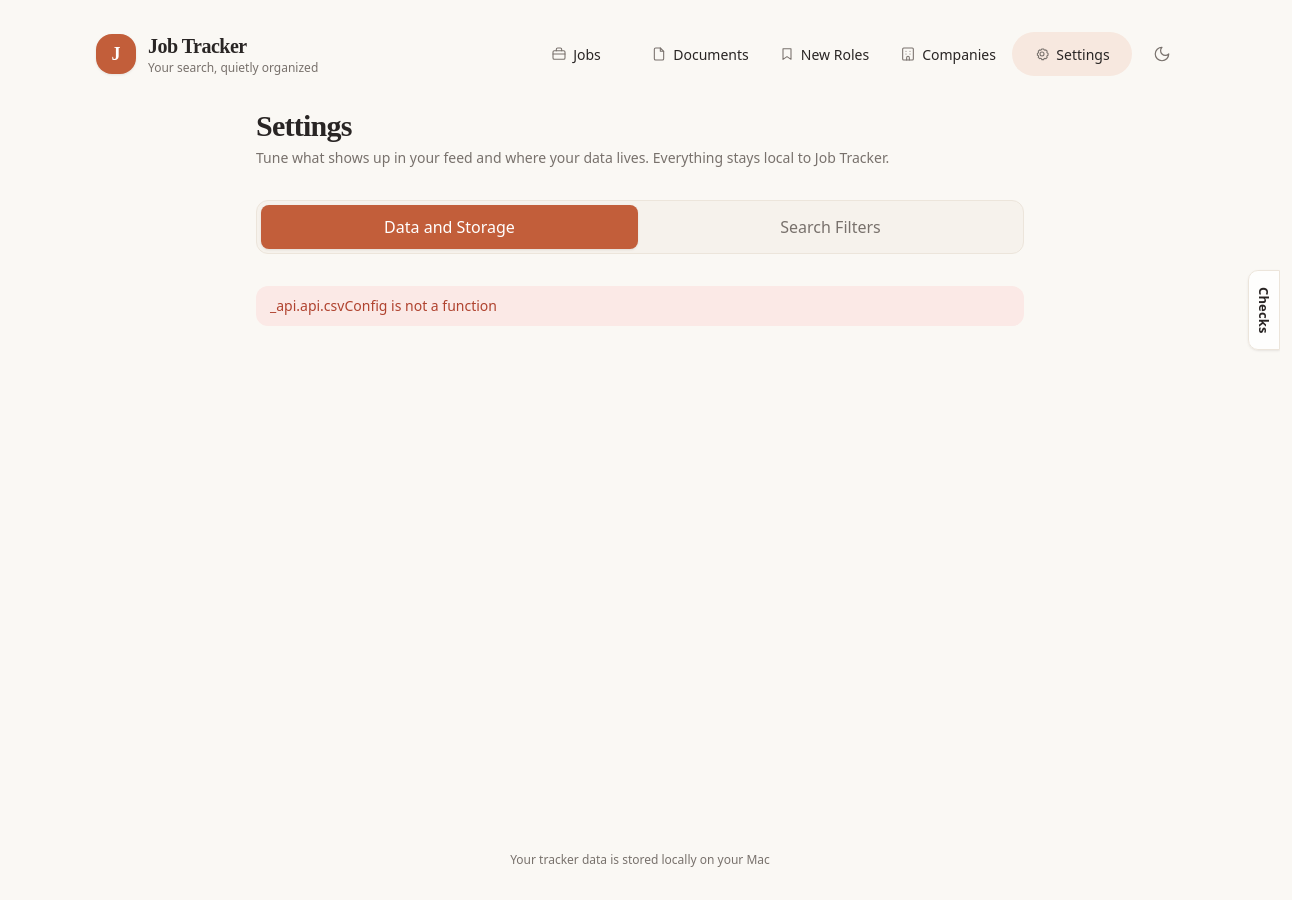
top navigation while a posting run is displayed › returns to Jobs through the app title without discarding the run
The image size is (1292, 900).
Click the button "Checks" at (1264, 310), box [1248,270,1280,350]
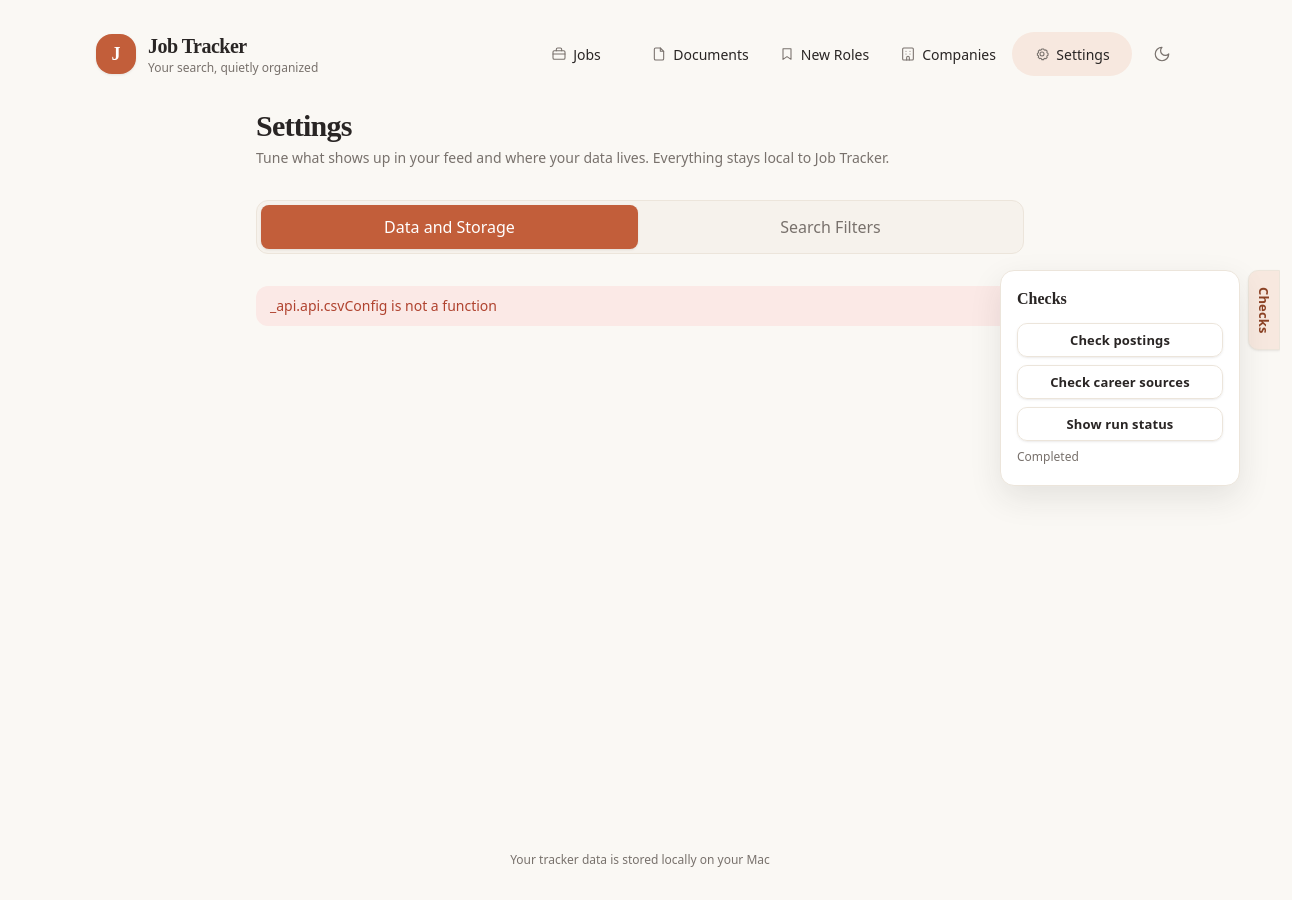
Click the button "Show run status" at (1120, 424), box [1017,407,1223,441]
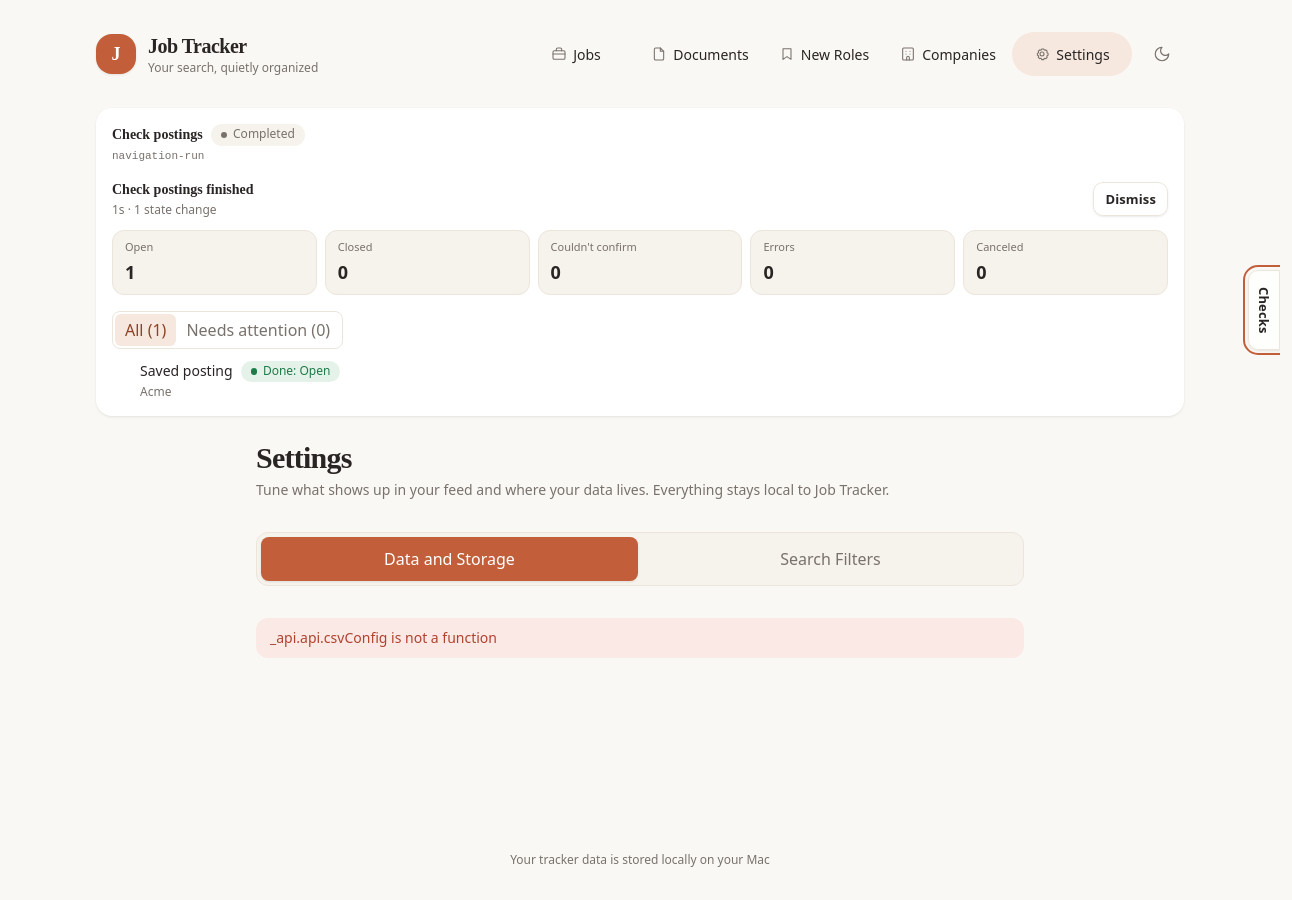
Click the link to "/" at (207, 54), box [96,32,318,76]
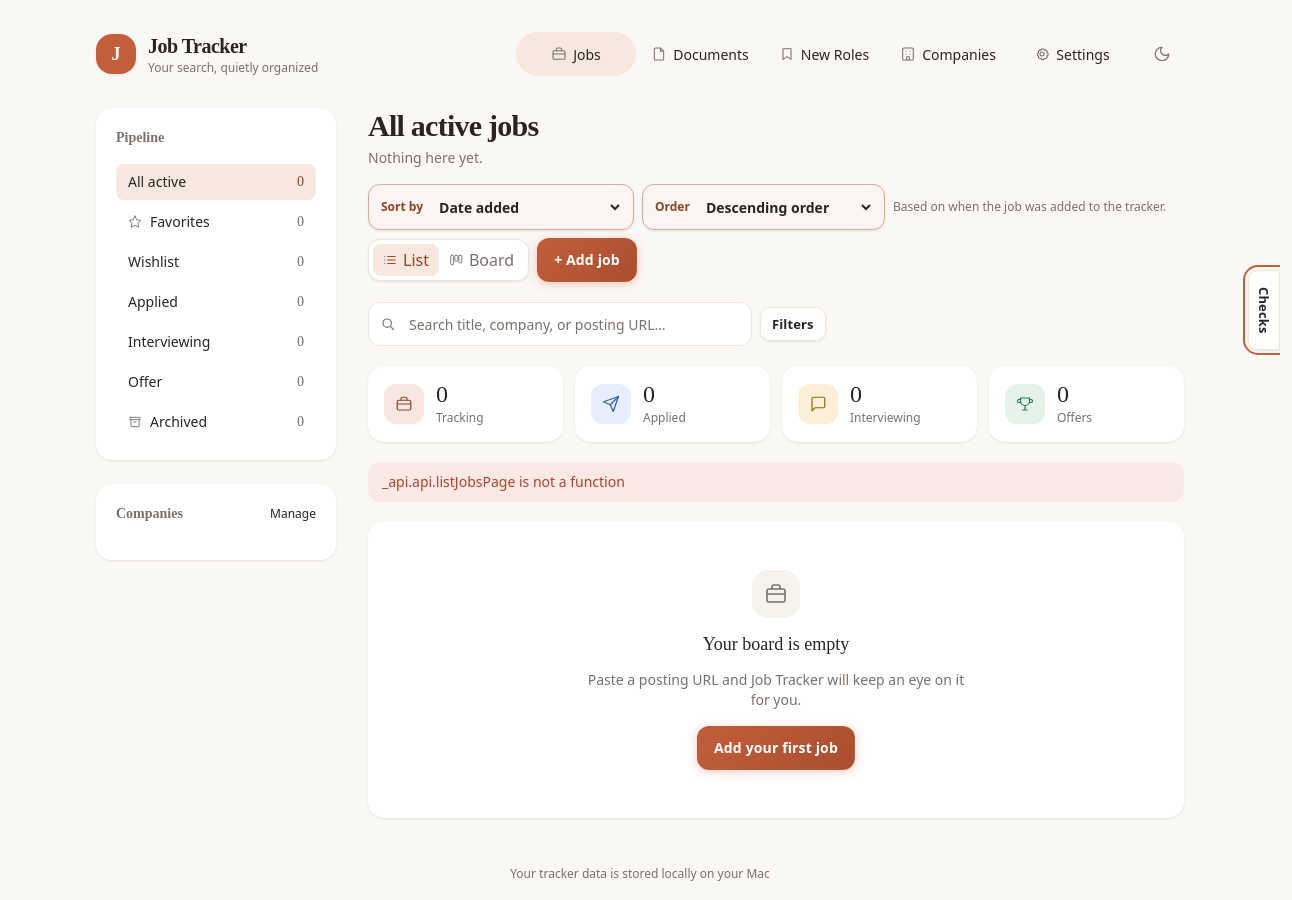
Click the button "Checks" at (1264, 310), box [1248,270,1280,350]
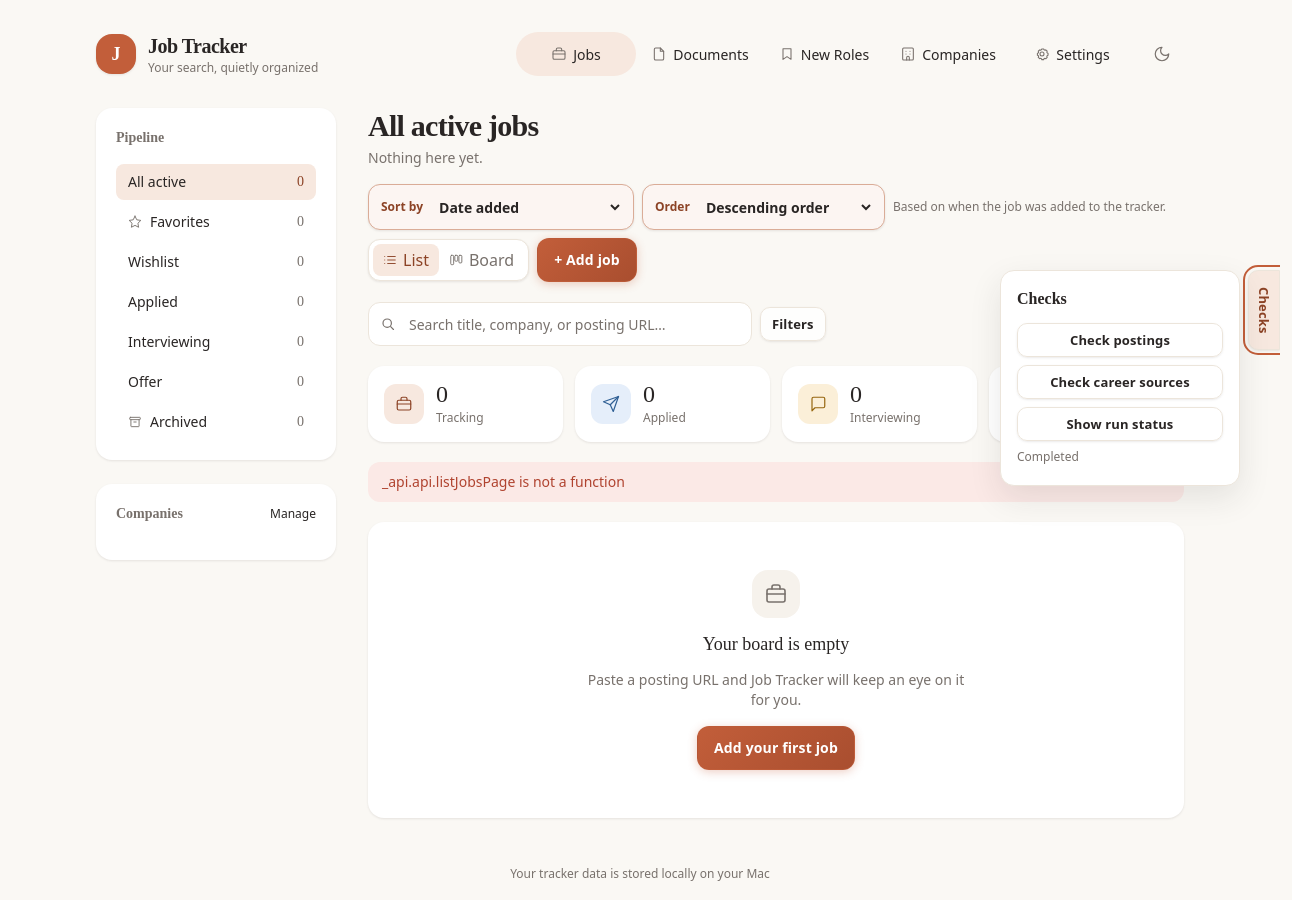
Click the button "Show run status" at (1120, 424), box [1017,407,1223,441]
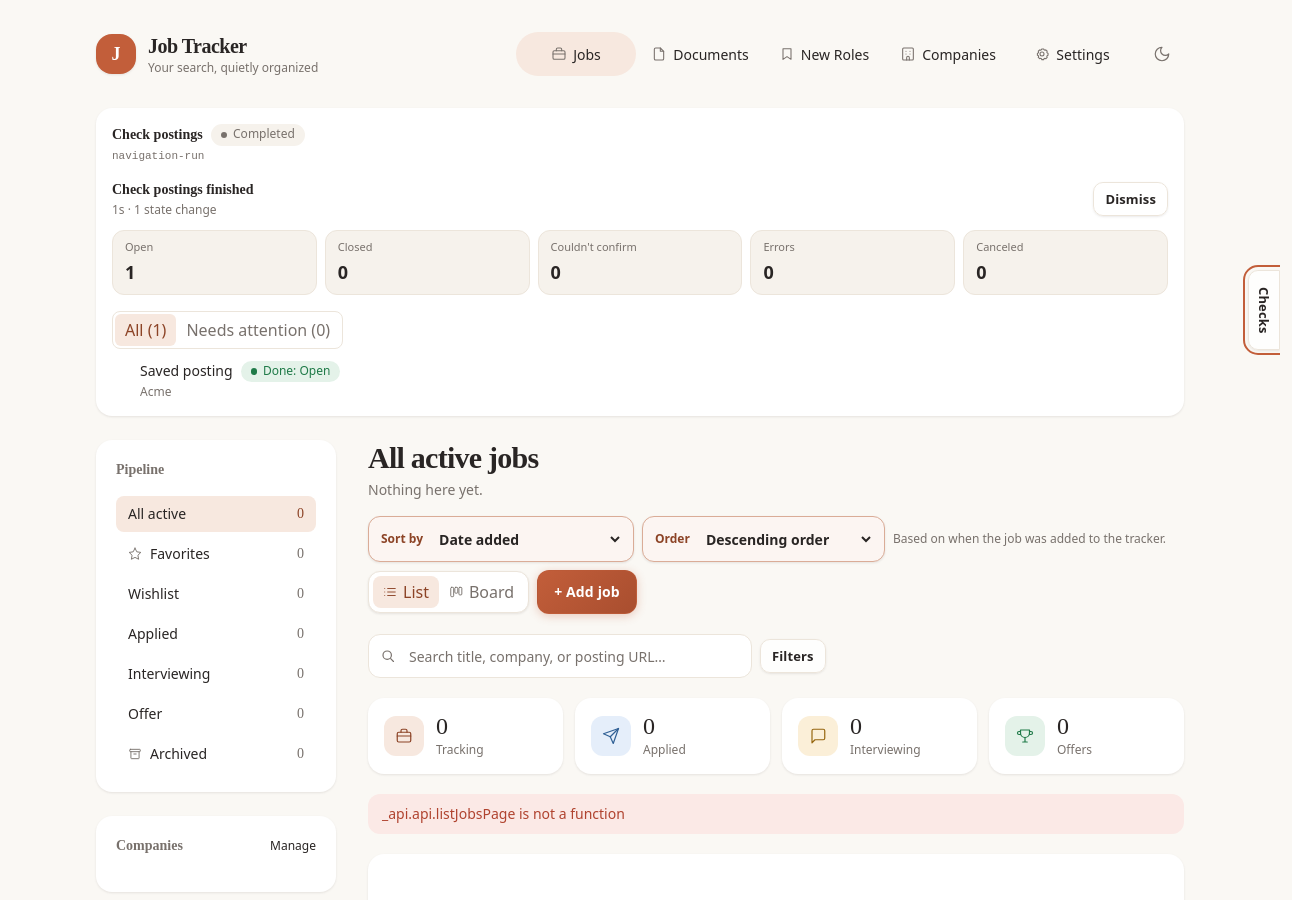
Expected: the element named "Run status" shows "navigation-run", [112,150,204,162]
